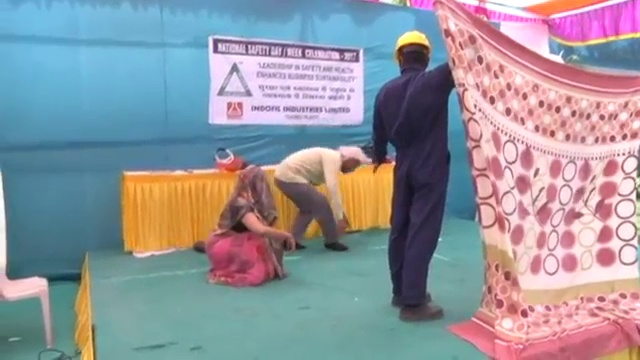helmet: (394, 30, 432, 57)
helmet_off: (239, 163, 269, 197), (339, 143, 365, 178)
helmet_on: (393, 30, 432, 75)
person: (369, 30, 455, 322), (208, 164, 295, 288), (274, 142, 368, 254)
